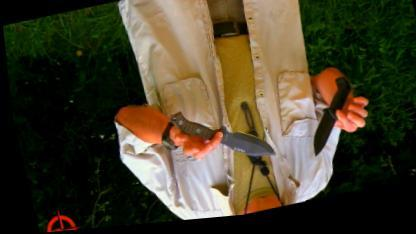knife: (162, 97, 274, 181), (294, 79, 362, 165)
